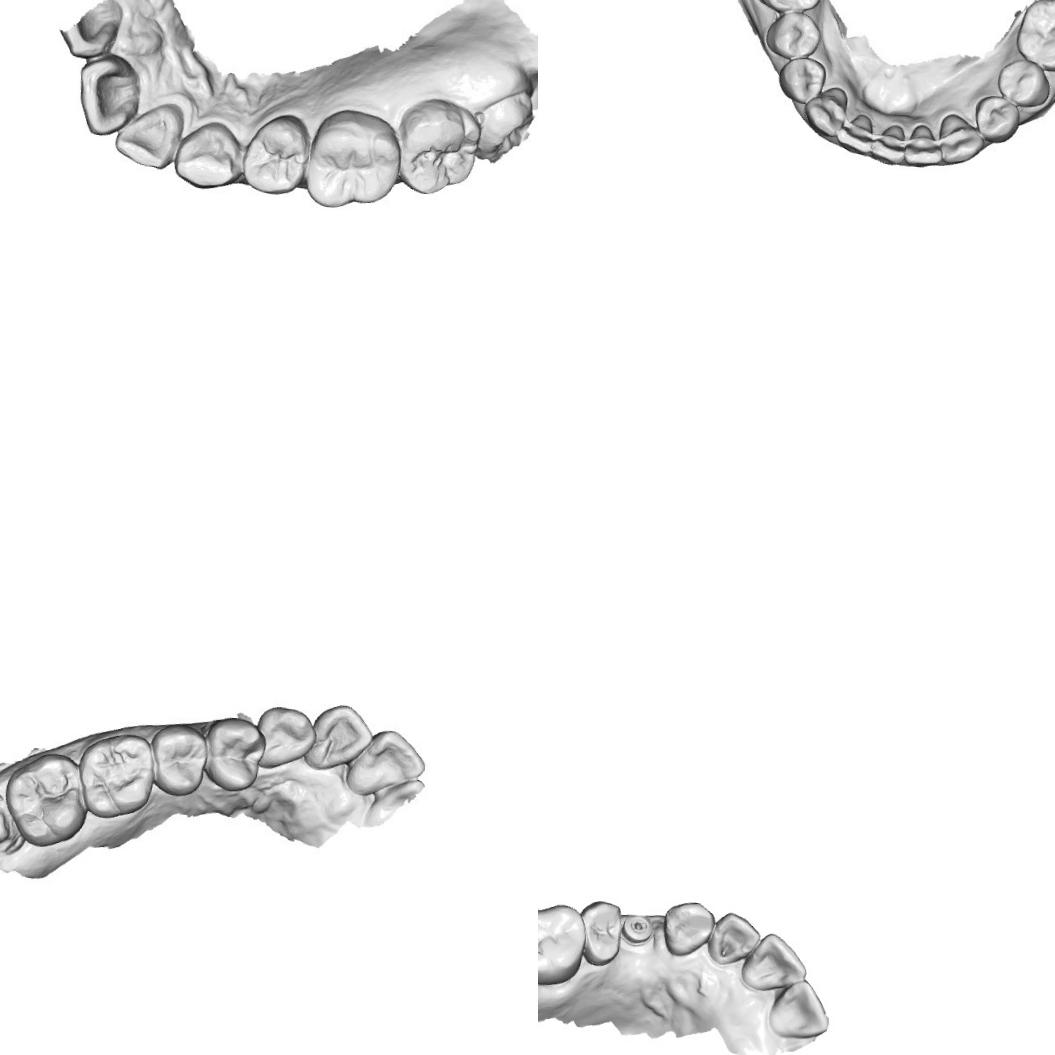canine: (174, 120, 244, 193), (256, 704, 314, 774), (660, 899, 716, 959), (936, 112, 986, 168), (802, 84, 850, 139)
implant_minus: (620, 913, 655, 947)
incisor: (348, 724, 430, 804), (78, 51, 143, 137), (113, 95, 187, 169), (738, 931, 809, 994), (765, 976, 832, 1042), (310, 700, 368, 773), (706, 909, 762, 968), (832, 109, 877, 158), (902, 123, 947, 171), (866, 122, 908, 168)
molar: (306, 108, 402, 212), (0, 747, 91, 849), (394, 94, 478, 191), (75, 730, 158, 822), (538, 900, 587, 988), (1012, 0, 1055, 72)
premolar: (242, 111, 310, 192), (206, 715, 264, 796), (150, 722, 210, 796), (576, 898, 623, 968), (764, 7, 823, 60), (994, 57, 1052, 110), (775, 55, 827, 106), (972, 93, 1020, 143)
